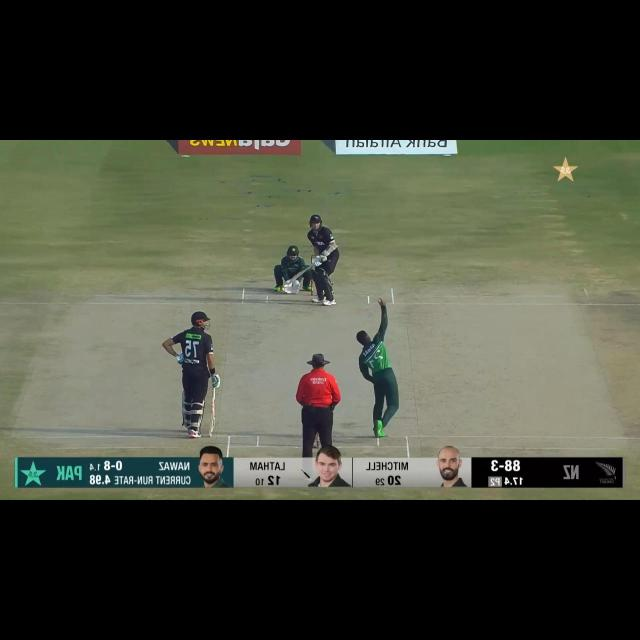bat: (287, 266, 313, 286), (209, 400, 222, 437)
toe: (207, 425, 216, 436), (286, 280, 295, 288)
